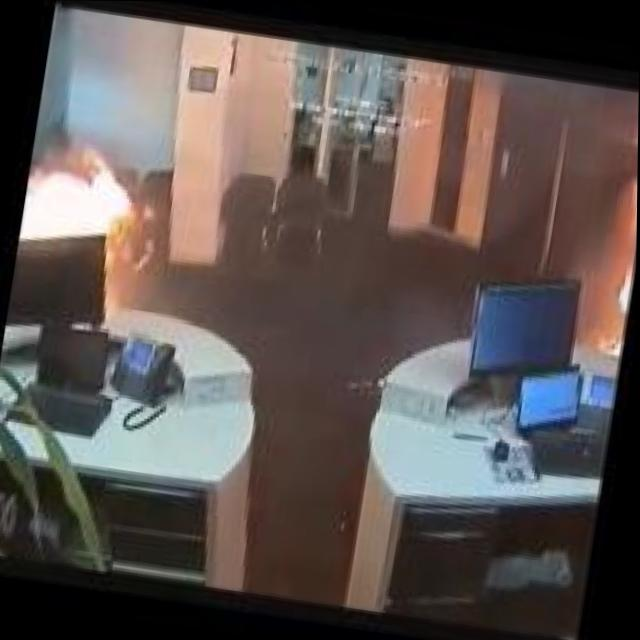fire: (6, 129, 158, 295), (609, 172, 638, 355)
